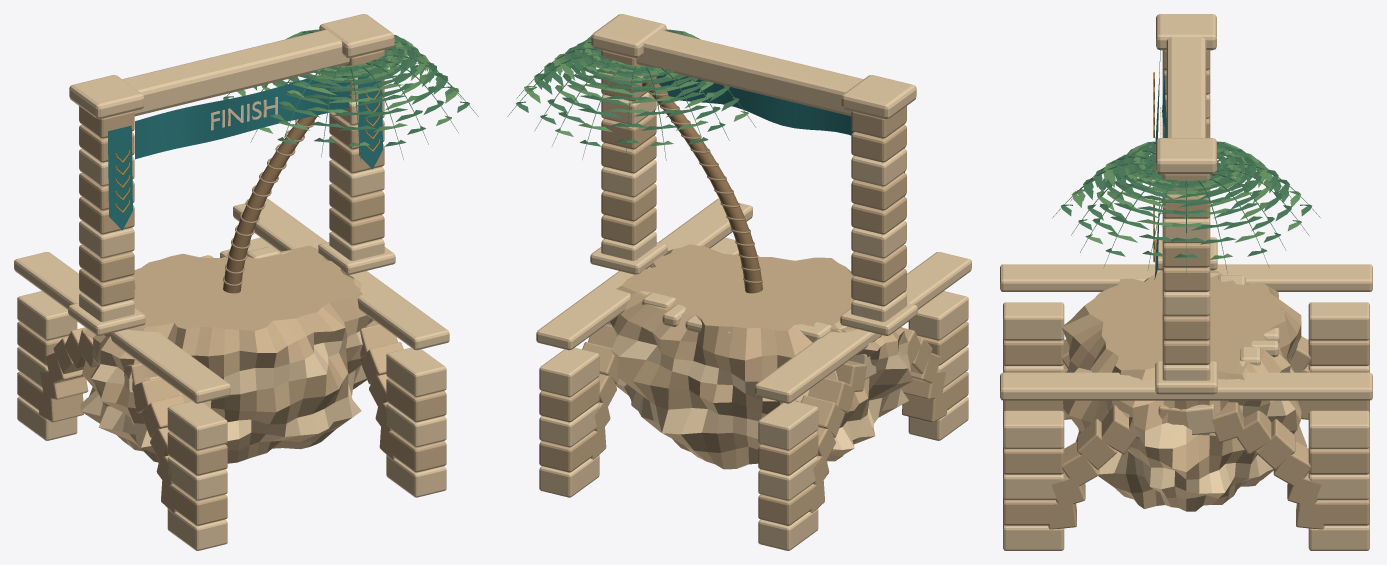
File: oasis-kit-runtime-v1.glb
The picture shows the model from 3 angles, left to right: view 1: azimuth 30°, elevation 25°; view 2: azimuth 150°, elevation 25°; view 3: azimuth 270°, elevation 25°; orthographic projection.
Parts seen in each view (by area): view 1: RockBank_Pale warm sandstone, BridgeSupport_Sunlit sandstone, FinishGate_Sunlit sandstone, BridgeSupport_Pale warm sandstone, FinishGate_Pale warm sandstone, FinishGate_Teal embroidered banners, Palm_Date palm green, Palm_Palm bark, Palm_Young palm leaf, Palm_Weathered stone, FinishGate_Pale lime grout; view 2: RockBank_Pale warm sandstone, BridgeSupport_Sunlit sandstone, FinishGate_Sunlit sandstone, BridgeSupport_Pale warm sandstone, FinishGate_Pale warm sandstone, Palm_Date palm green, FinishGate_Teal embroidered banners, Palm_Palm bark, Palm_Young palm leaf, RockBank_Sunlit sandstone, Palm_Weathered stone; view 3: BridgeSupport_Sunlit sandstone, RockBank_Pale warm sandstone, BridgeSupport_Pale warm sandstone, FinishGate_Sunlit sandstone, Palm_Date palm green, FinishGate_Pale warm sandstone, Palm_Young palm leaf, RockBank_Sunlit sandstone, FinishGate_Teal embroidered banners.
Boxes of the visible parts, x1=… form: RockBank_Pale warm sandstone: x1=80, y1=245, x2=373, y2=463; BridgeSupport_Sunlit sandstone: x1=14, y1=198, x2=449, y2=550; FinishGate_Sunlit sandstone: x1=68, y1=14, x2=395, y2=335; BridgeSupport_Pale warm sandstone: x1=17, y1=320, x2=446, y2=525; FinishGate_Pale warm sandstone: x1=79, y1=50, x2=384, y2=306; FinishGate_Teal embroidered banners: x1=108, y1=72, x2=382, y2=230; Palm_Date palm green: x1=223, y1=29, x2=478, y2=161; Palm_Palm bark: x1=223, y1=115, x2=318, y2=293; Palm_Young palm leaf: x1=237, y1=29, x2=459, y2=146; Palm_Weathered stone: x1=223, y1=119, x2=314, y2=286; FinishGate_Pale lime grout: x1=211, y1=97, x2=277, y2=130; RockBank_Pale warm sandstone: x1=610, y1=244, x2=912, y2=469; BridgeSupport_Sunlit sandstone: x1=536, y1=198, x2=971, y2=550; FinishGate_Sunlit sandstone: x1=590, y1=14, x2=917, y2=335; BridgeSupport_Pale warm sandstone: x1=539, y1=321, x2=968, y2=525; FinishGate_Pale warm sandstone: x1=601, y1=50, x2=906, y2=306; Palm_Date palm green: x1=507, y1=29, x2=755, y2=160; FinishGate_Teal embroidered banners: x1=654, y1=71, x2=904, y2=196; Palm_Palm bark: x1=641, y1=75, x2=762, y2=293; Palm_Young palm leaf: x1=524, y1=29, x2=748, y2=146; RockBank_Sunlit sandstone: x1=640, y1=267, x2=847, y2=342; Palm_Weathered stone: x1=648, y1=91, x2=762, y2=283; BridgeSupport_Sunlit sandstone: x1=1000, y1=264, x2=1372, y2=550; RockBank_Pale warm sandstone: x1=1061, y1=270, x2=1307, y2=511; BridgeSupport_Pale warm sandstone: x1=1003, y1=336, x2=1369, y2=529; FinishGate_Sunlit sandstone: x1=1155, y1=14, x2=1217, y2=394; Palm_Date palm green: x1=1052, y1=141, x2=1320, y2=273; FinishGate_Pale warm sandstone: x1=1162, y1=50, x2=1210, y2=364; Palm_Young palm leaf: x1=1072, y1=141, x2=1301, y2=259; RockBank_Sunlit sandstone: x1=1210, y1=273, x2=1284, y2=366; FinishGate_Teal embroidered banners: x1=1154, y1=50, x2=1166, y2=279.
Bounding box in the file's own units: 7.06 × 7.28 × 6.1.
